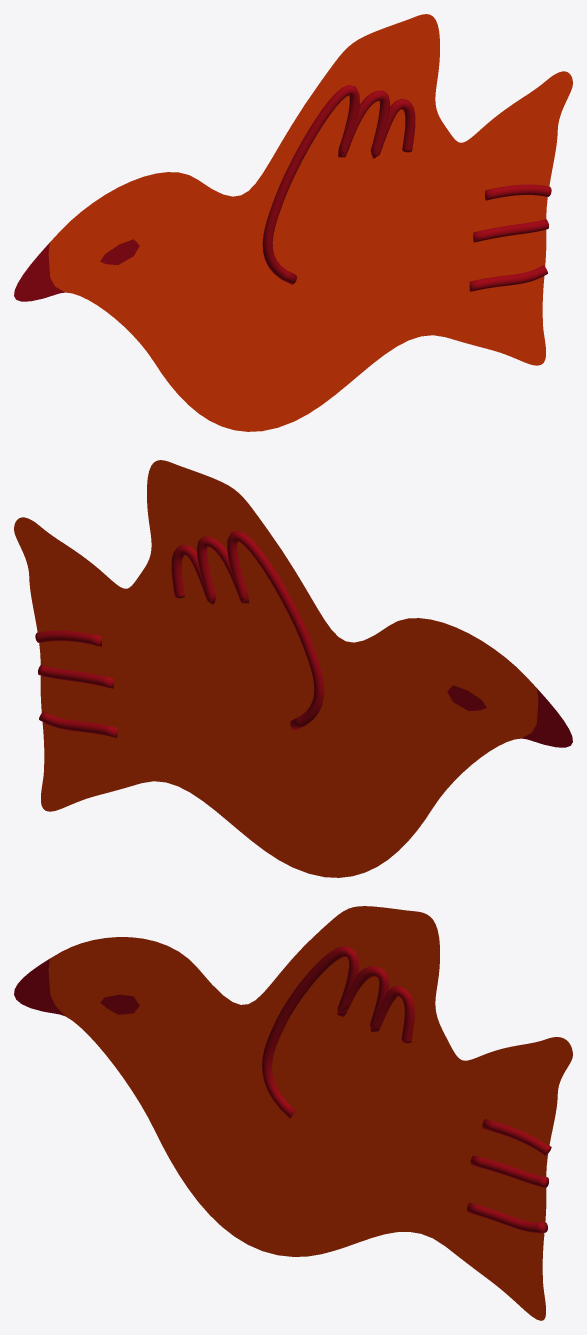
File: Bird.glb
3 renders of one model, top to bottom at view 1: azimuth 30°, elevation 25°; view 2: azimuth 150°, elevation 25°; view 3: azimuth 330°, elevation 25°, orthographic.
Visible parts, largest first — view 1: Bird; view 2: Bird; view 3: Bird.
Boxes of the visible parts, bbox=[...] form: Bird: bbox=[14, 14, 572, 431]; Bird: bbox=[14, 460, 572, 877]; Bird: bbox=[14, 906, 572, 1320].
Bounding box in the file's own units: 0.7153 × 0.4639 × 0.012.
